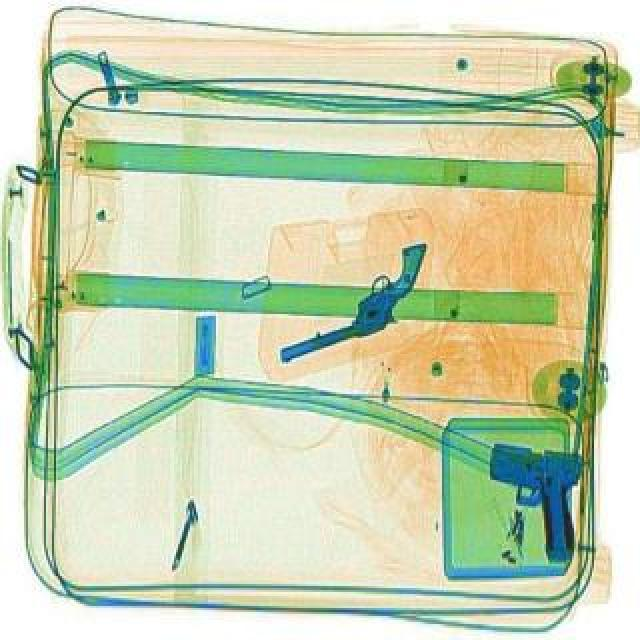gun: (256, 242, 456, 370), (490, 446, 582, 566)
